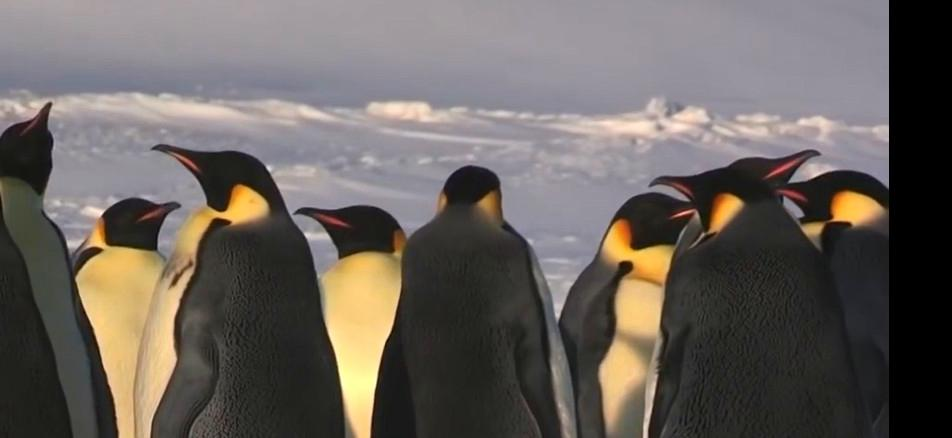Emperor Penguin: (123, 129, 352, 438), (362, 154, 568, 438), (668, 158, 862, 438), (290, 192, 414, 438), (0, 105, 90, 438), (782, 160, 892, 398), (582, 186, 680, 438)
